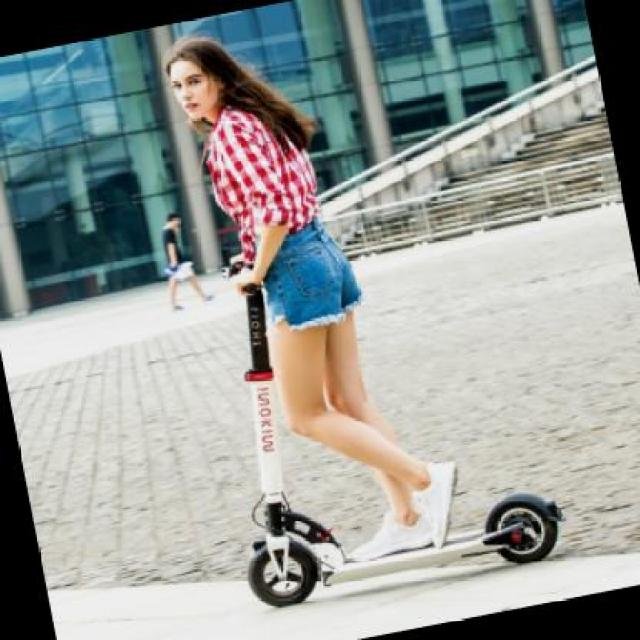bare_head: (134, 43, 260, 117)
human: (141, 39, 454, 526)
kickboard: (229, 489, 584, 577)
